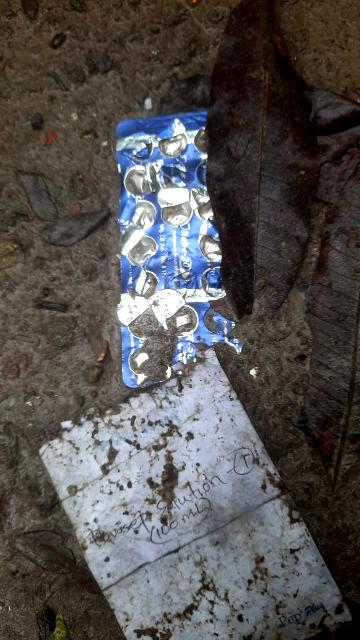medicine: (113, 113, 239, 393)
